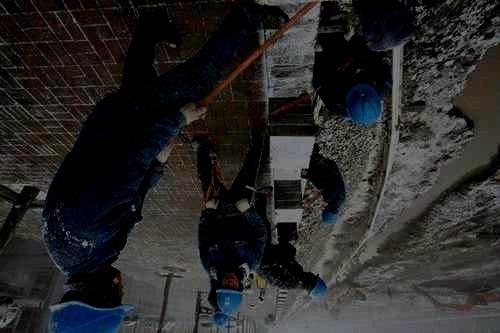helmet: (46, 264, 136, 333), (345, 83, 382, 129), (215, 271, 244, 316), (300, 271, 328, 302), (320, 204, 338, 226), (212, 305, 228, 327)
